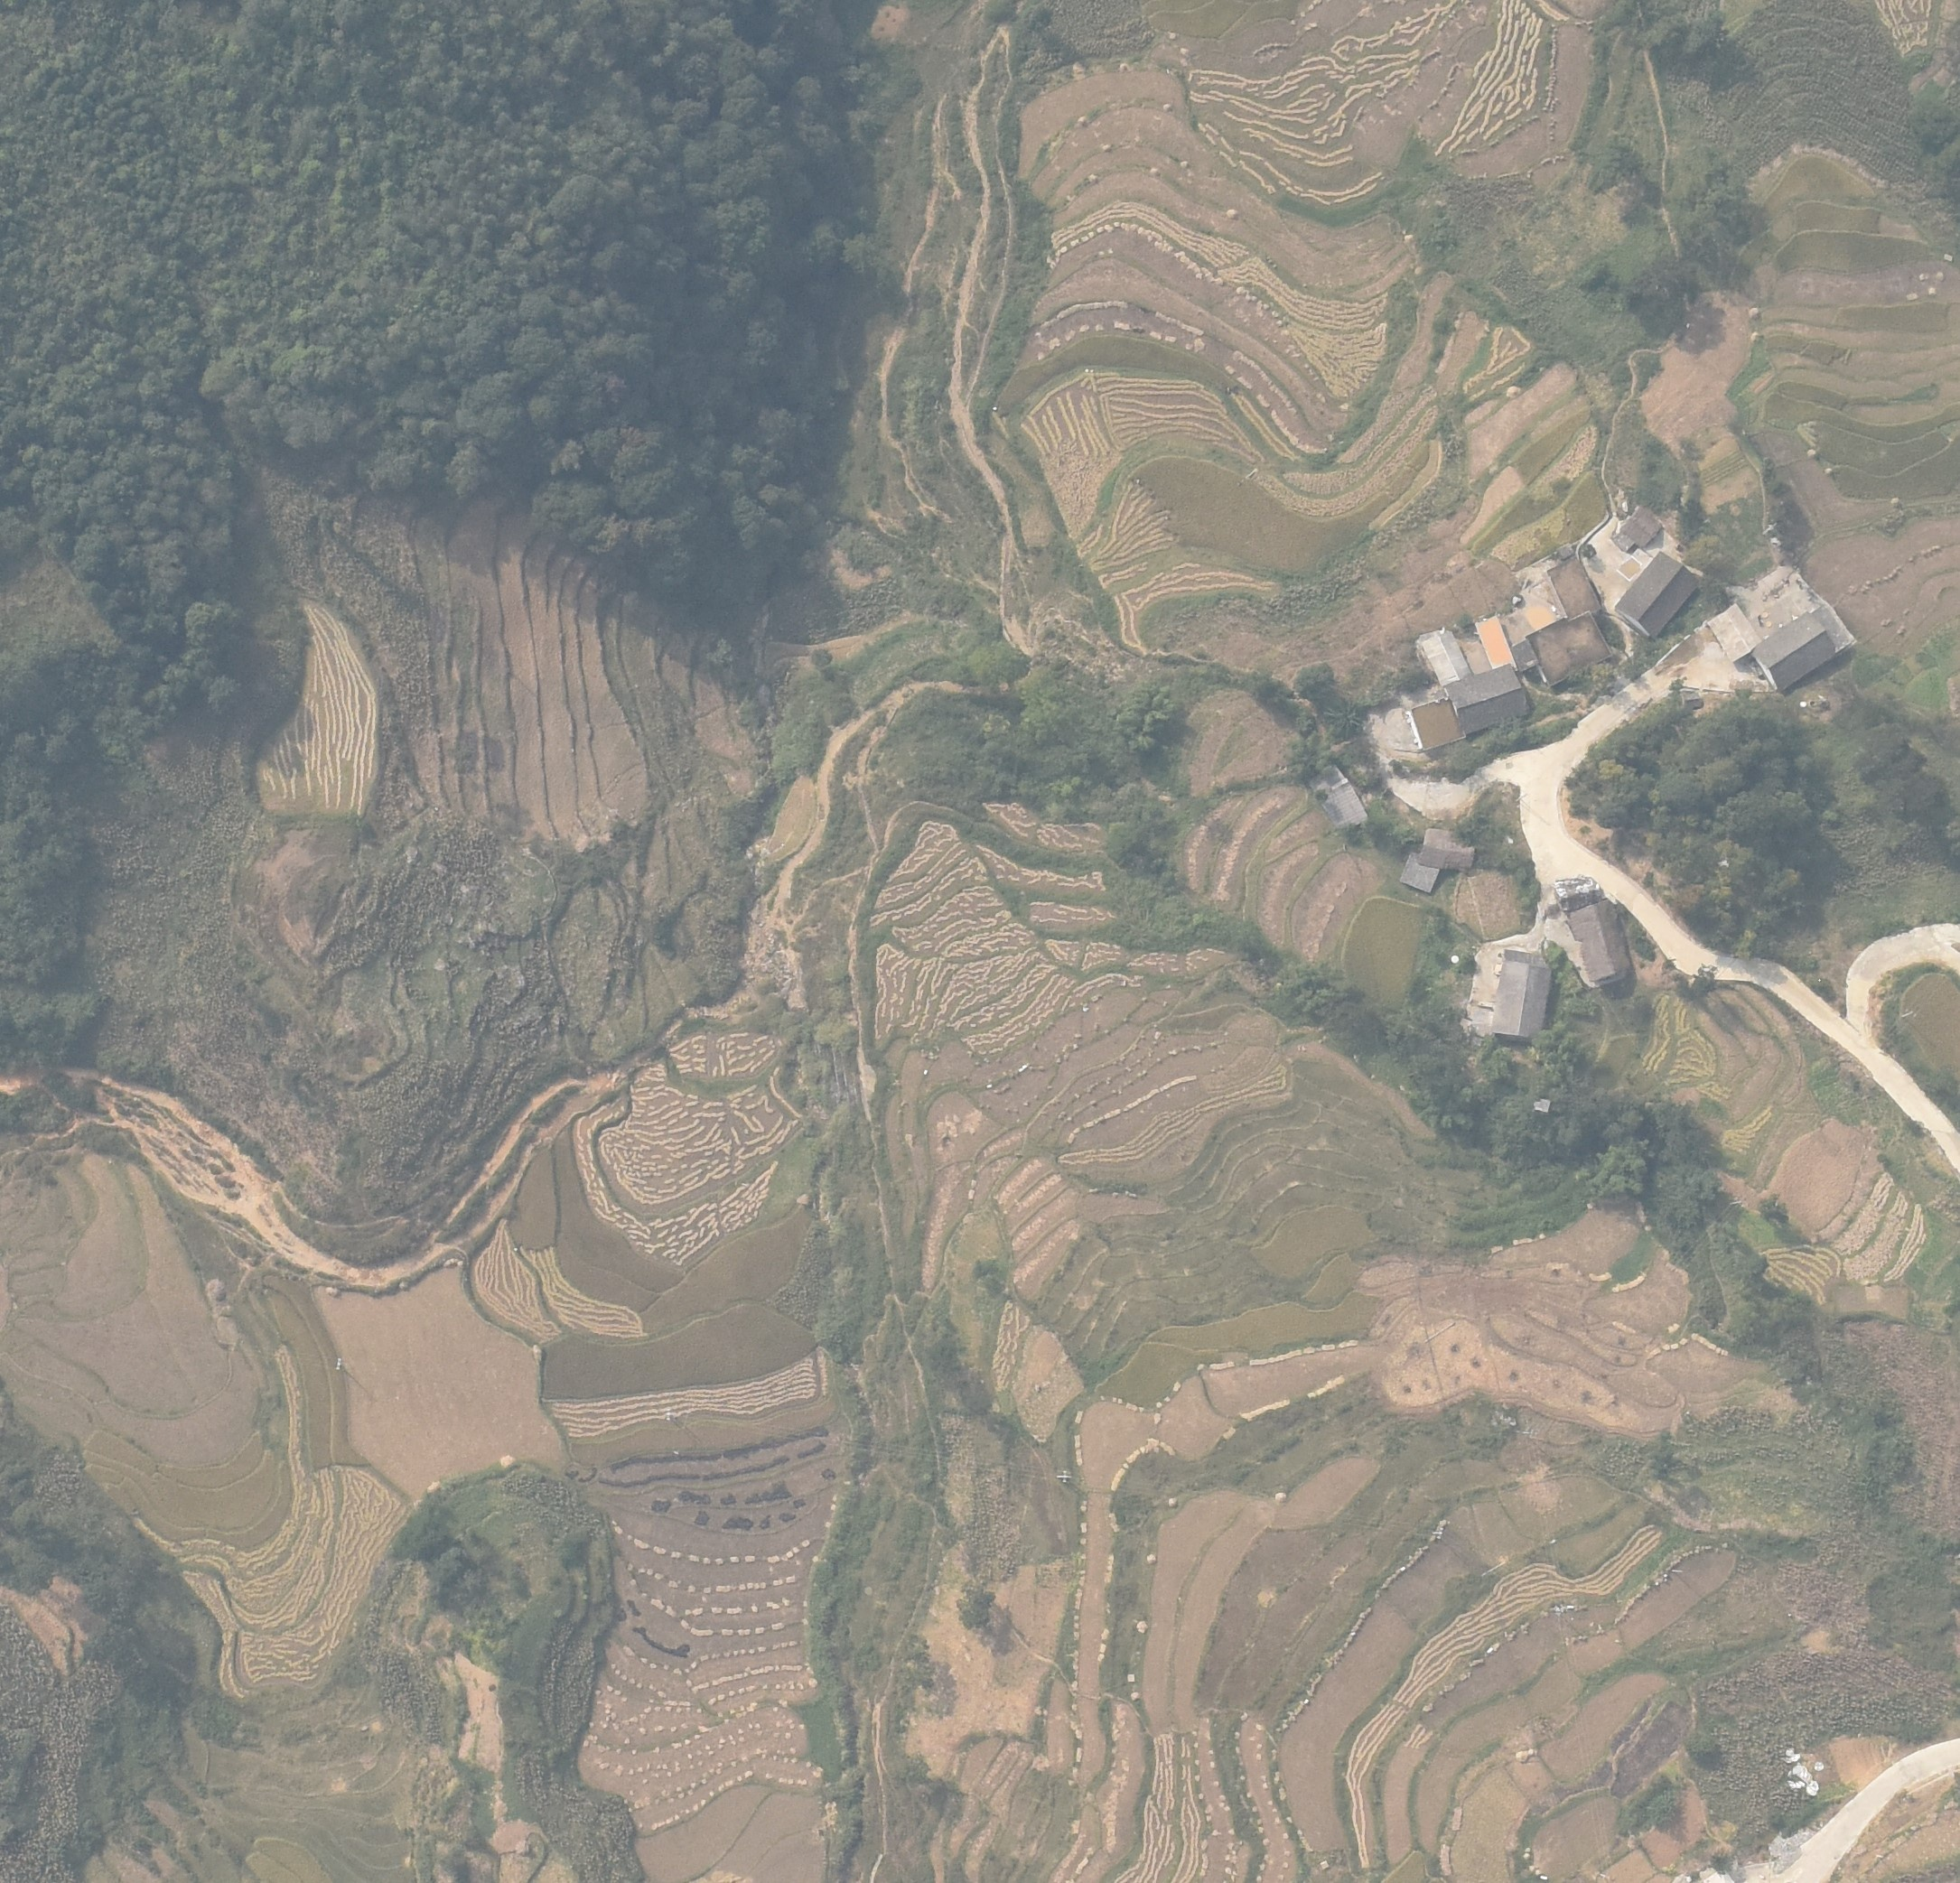building: (1614, 552, 1699, 637), (1751, 611, 1835, 694), (1525, 611, 1611, 686), (1444, 665, 1527, 734), (1568, 899, 1633, 983), (1490, 948, 1549, 1039), (1306, 764, 1367, 830), (1546, 555, 1601, 620), (1707, 602, 1760, 661), (1412, 697, 1466, 750), (1423, 630, 1471, 685), (1418, 827, 1474, 870), (1610, 506, 1662, 550), (1400, 851, 1440, 895)
cable-tower: (1481, 1562, 1506, 1574), (1550, 1604, 1573, 1613), (1055, 1470, 1071, 1482), (1433, 1527, 1443, 1539), (1516, 793, 1526, 804), (1668, 1569, 1684, 1574), (665, 1407, 670, 1421), (335, 1358, 341, 1370)
well: (1451, 955, 1458, 964)
